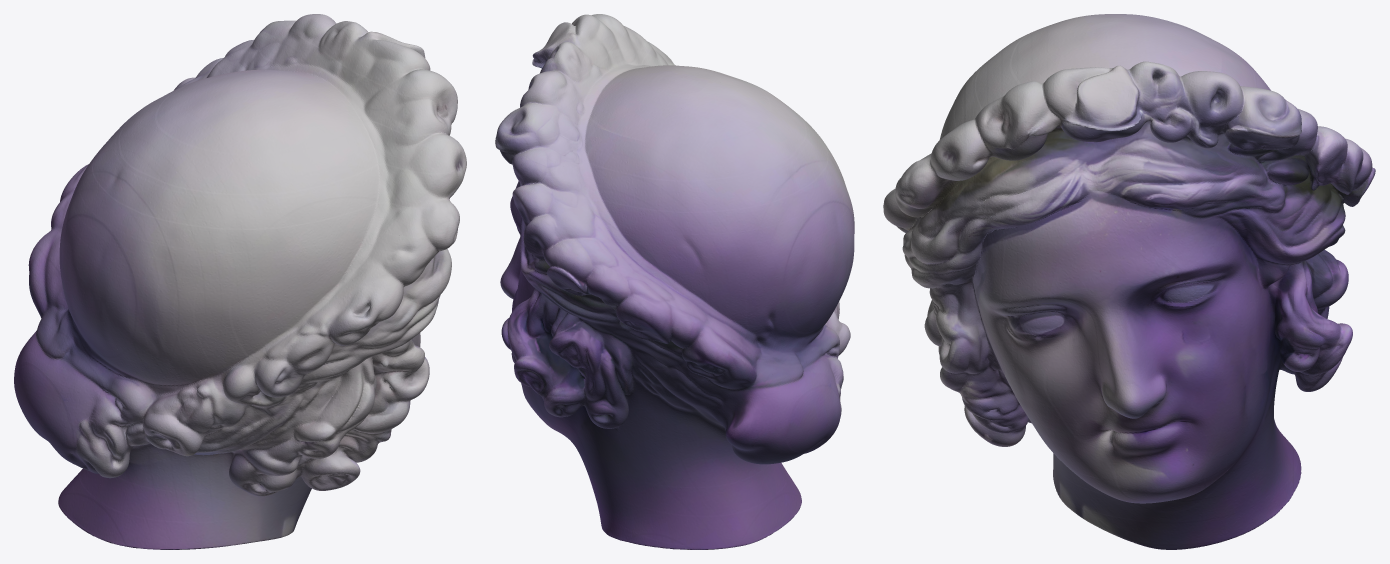
The model's file is busto.glb.
The picture shows the model from 3 angles, left to right: view 1: azimuth 30°, elevation 25°; view 2: azimuth 150°, elevation 25°; view 3: azimuth 270°, elevation 25°; orthographic projection. The views are drawn at different scales.
Visible parts, largest first — view 1: tripo_node_b7e4170b-2229-4dc9-b20d-191a392bd441; view 2: tripo_node_b7e4170b-2229-4dc9-b20d-191a392bd441; view 3: tripo_node_b7e4170b-2229-4dc9-b20d-191a392bd441.
Boxes of the visible parts, x1,y1,x2,y2 form: tripo_node_b7e4170b-2229-4dc9-b20d-191a392bd441: [14, 14, 466, 549]; tripo_node_b7e4170b-2229-4dc9-b20d-191a392bd441: [495, 14, 854, 549]; tripo_node_b7e4170b-2229-4dc9-b20d-191a392bd441: [883, 14, 1375, 549].
Size of the model in its own units: 0.815 by 1 by 0.852.
Materials: 1 (1 with a texture image).
